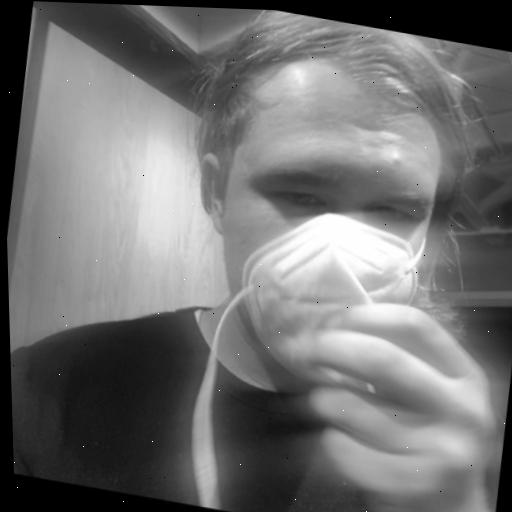mask: (143, 13, 466, 415)
